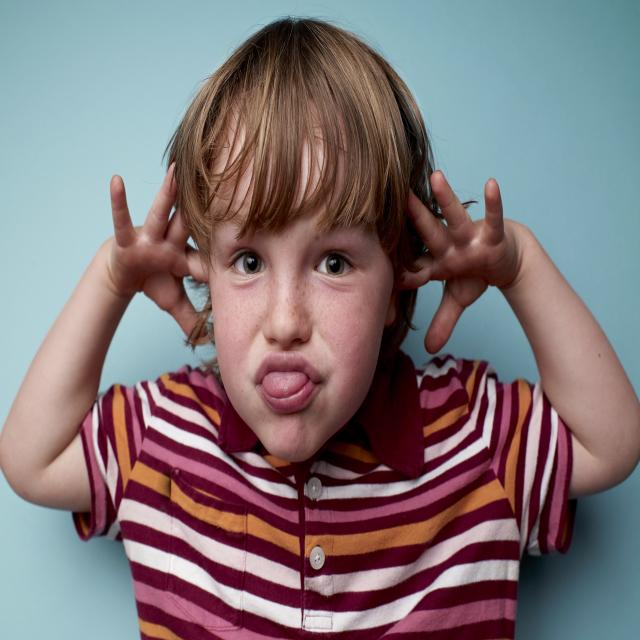child: (0, 12, 638, 640)
